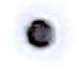cancer: (9, 4, 75, 64)
